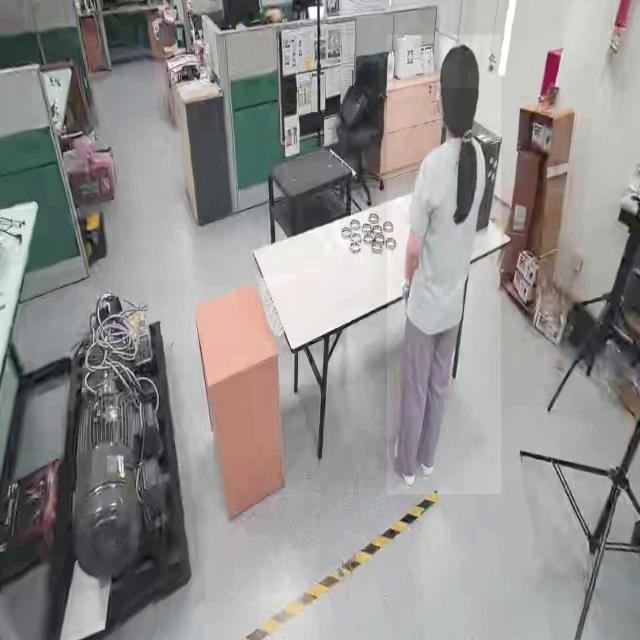head_nohelmet: (440, 43, 480, 89)
person: (387, 35, 501, 495)
shoes: (394, 434, 418, 489), (410, 429, 436, 477)
